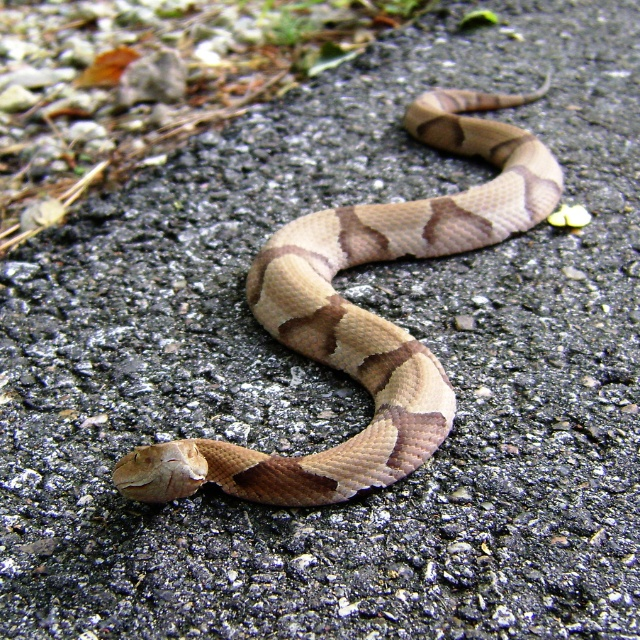Snake: (114, 68, 561, 509)
